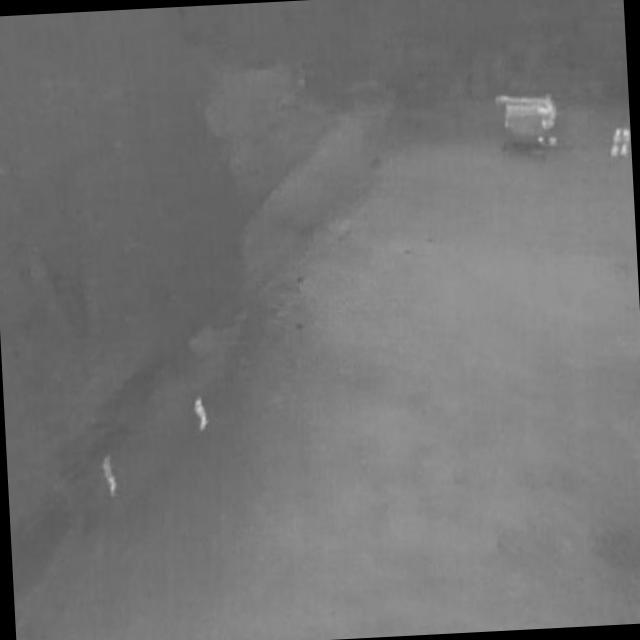person: (102, 456, 121, 498), (194, 398, 211, 434), (609, 128, 623, 159), (620, 130, 632, 158)
